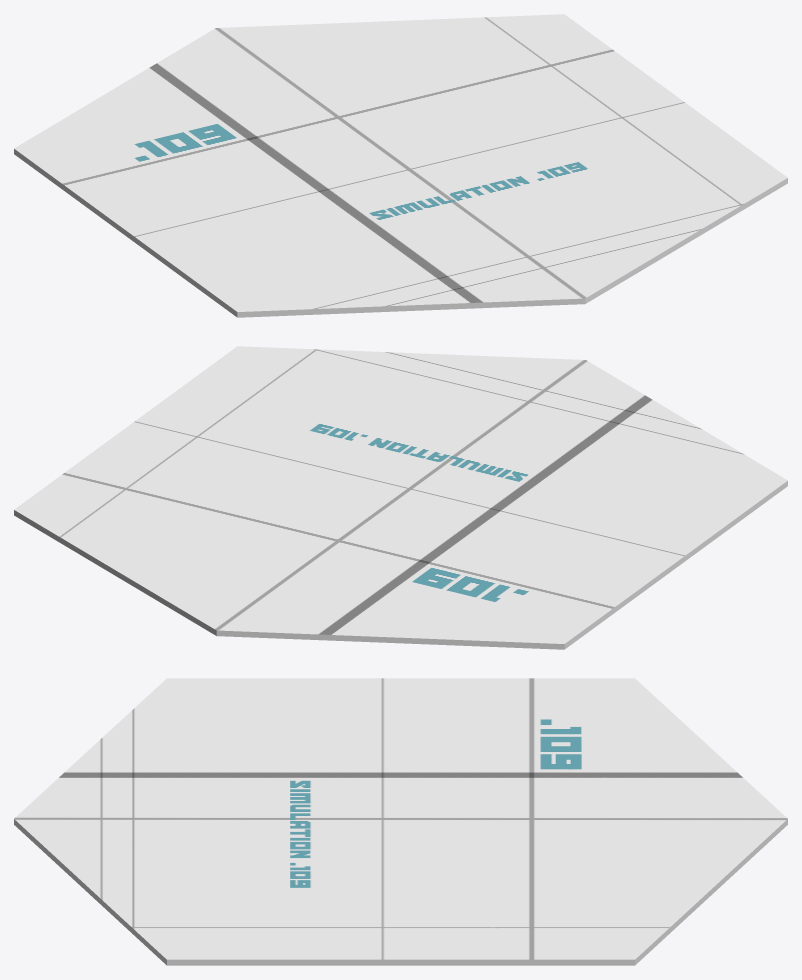
The model's file is MP_Ground_Plane.fbx.
3 renders of one model, top to bottom at view 1: azimuth 30°, elevation 25°; view 2: azimuth 150°, elevation 25°; view 3: azimuth 270°, elevation 25°, orthographic. The views are drawn at different scales.
Visible parts, largest first — view 1: pPlane1; view 2: pPlane1; view 3: pPlane1.
Part boxes in pixels (x1,y1,x2,y2): pPlane1: (14, 14, 787, 317); pPlane1: (14, 346, 787, 649); pPlane1: (14, 678, 787, 965).
Bounding box in the file's own units: 6459 × 63.43 × 7509.
Materials: 1 (1 with a texture image).
